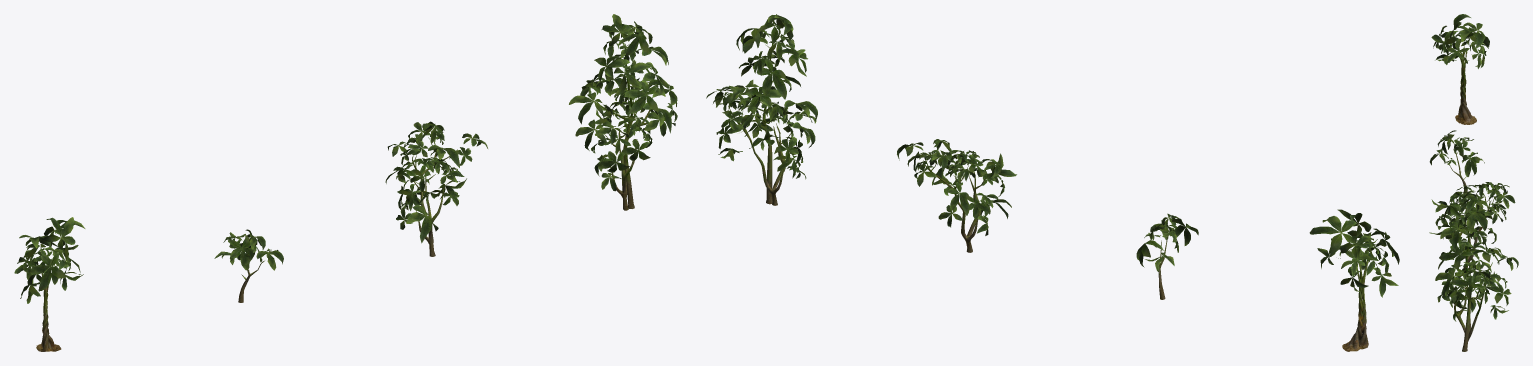
Rendered from pachira.glb.
3 views of the same model, side by side, from view 1: azimuth 30°, elevation 25°; view 2: azimuth 150°, elevation 25°; view 3: azimuth 270°, elevation 25° (orthographic). The views are drawn at different scales.
Visible parts, largest first — view 1: pachira_aquatica_01_leaves_a, pachira_aquatica_01_bark_a; view 2: pachira_aquatica_01_leaves_a, pachira_aquatica_01_bark_a; view 3: pachira_aquatica_01_leaves_a, pachira_aquatica_01_bark_a.
Part boxes in pixels (<box>): pachira_aquatica_01_leaves_a: <box>14,14,677,303</box>; pachira_aquatica_01_bark_a: <box>36,44,652,351</box>; pachira_aquatica_01_leaves_a: <box>706,14,1399,297</box>; pachira_aquatica_01_bark_a: <box>728,43,1368,351</box>; pachira_aquatica_01_leaves_a: <box>1429,14,1518,321</box>; pachira_aquatica_01_bark_a: <box>1449,48,1497,351</box>.
Bounding box in the file's own units: 6.87 × 1.9 × 0.997.
2 materials, 2 textured.
